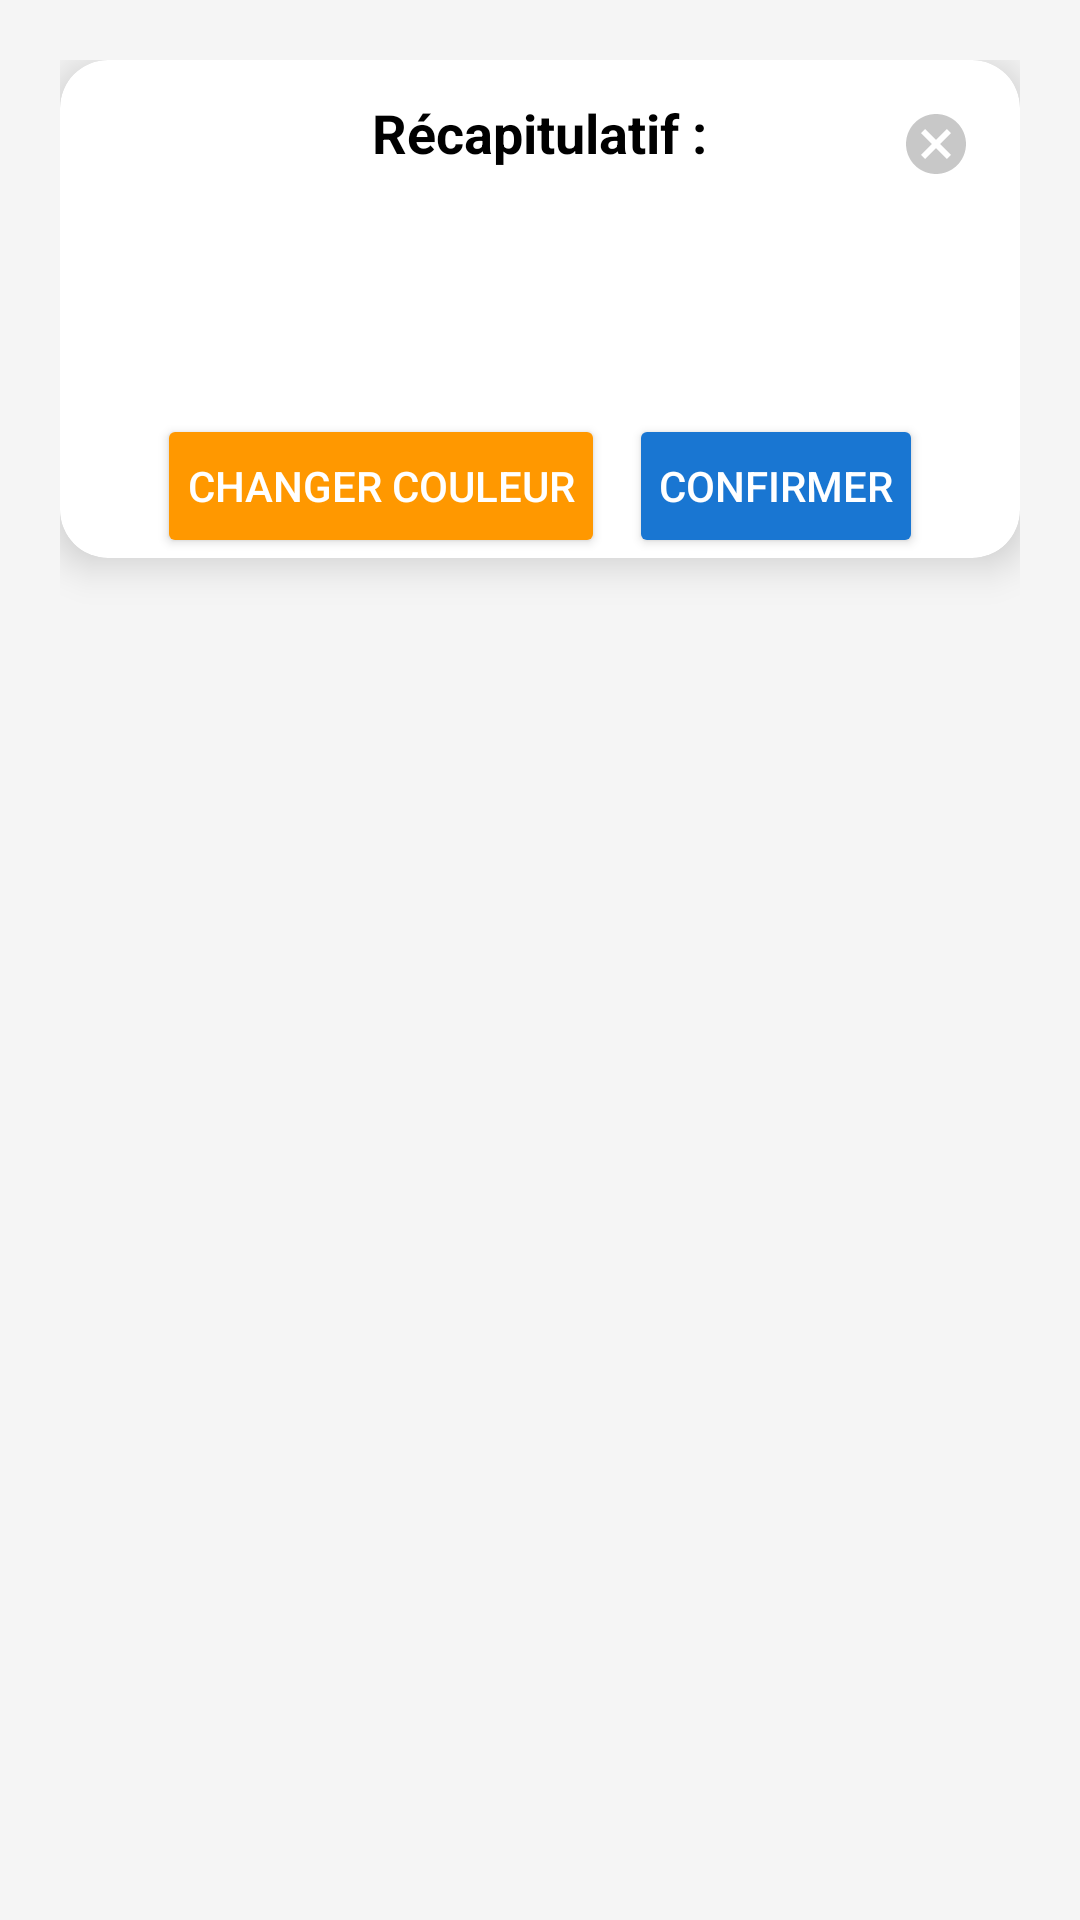

Icons on this 1080×1920 Android screen, each with its box as (left=x1, top=y1, right=x2, bottom=y2):
cancel: (left=906, top=114, right=966, bottom=174)
